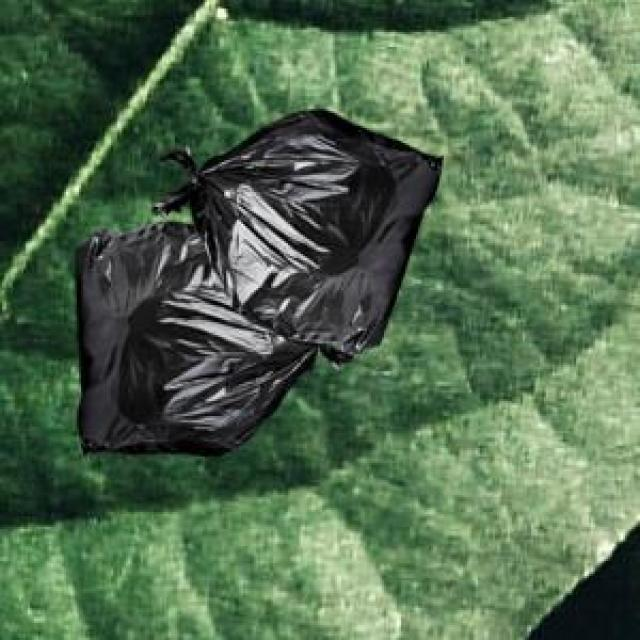waste: (80, 110, 441, 454)
